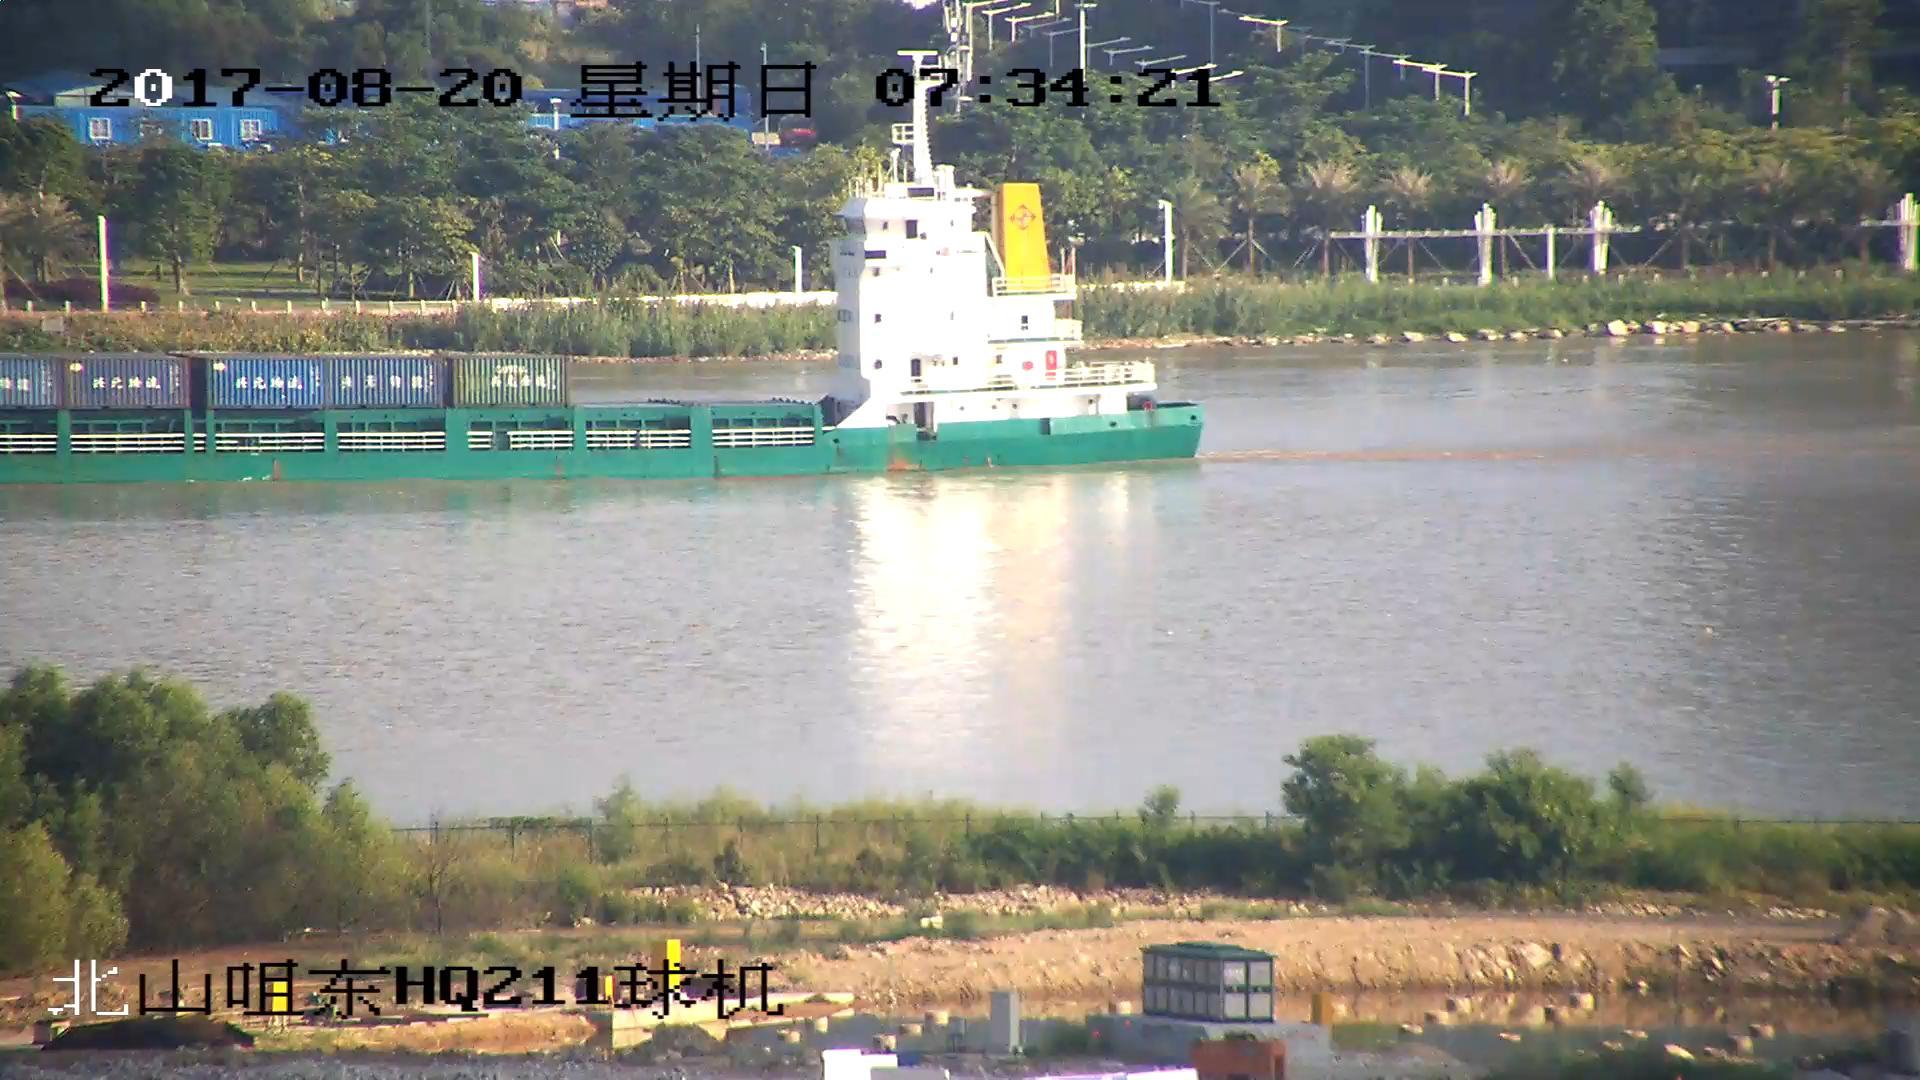Ship: (3, 123, 1203, 484)
